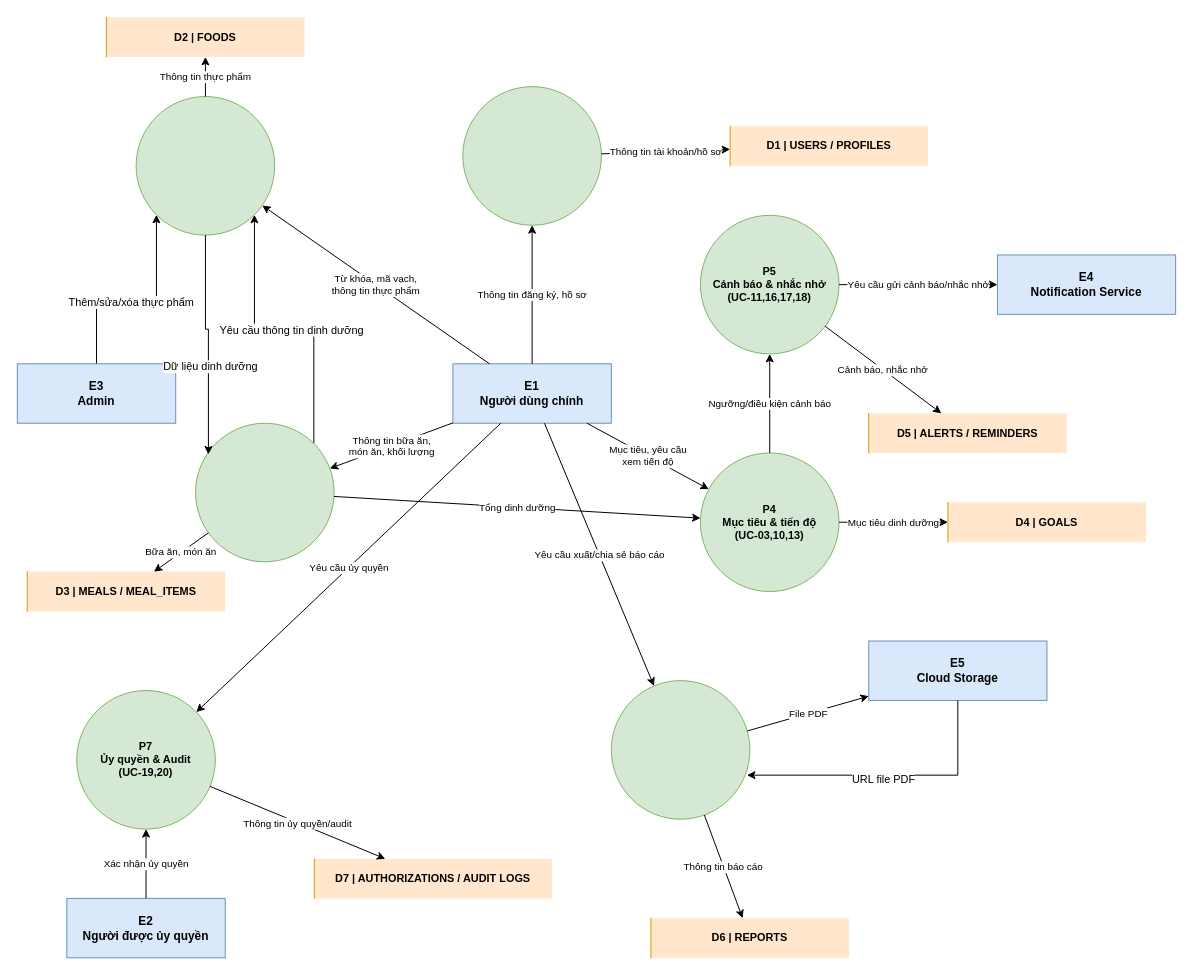
The diagram is 1193 pixels wide and 975 high, and some of its shapes have lost their labels. The box of each missing label's shape, as (x1, y1, x2, y2) in pixels:
P1 Quản lý tài khoản & hồ sơ (UC-01,02): (462, 86, 601, 225)
P2 Quản lý thực phẩm (UC-04,05,06,07,21): (135, 96, 275, 235)
P3 Quản lý bữa ăn (UC-08,09,12): (195, 422, 334, 562)
P6 Báo cáo & chia sẻ (UC-14,15): (610, 680, 750, 819)
